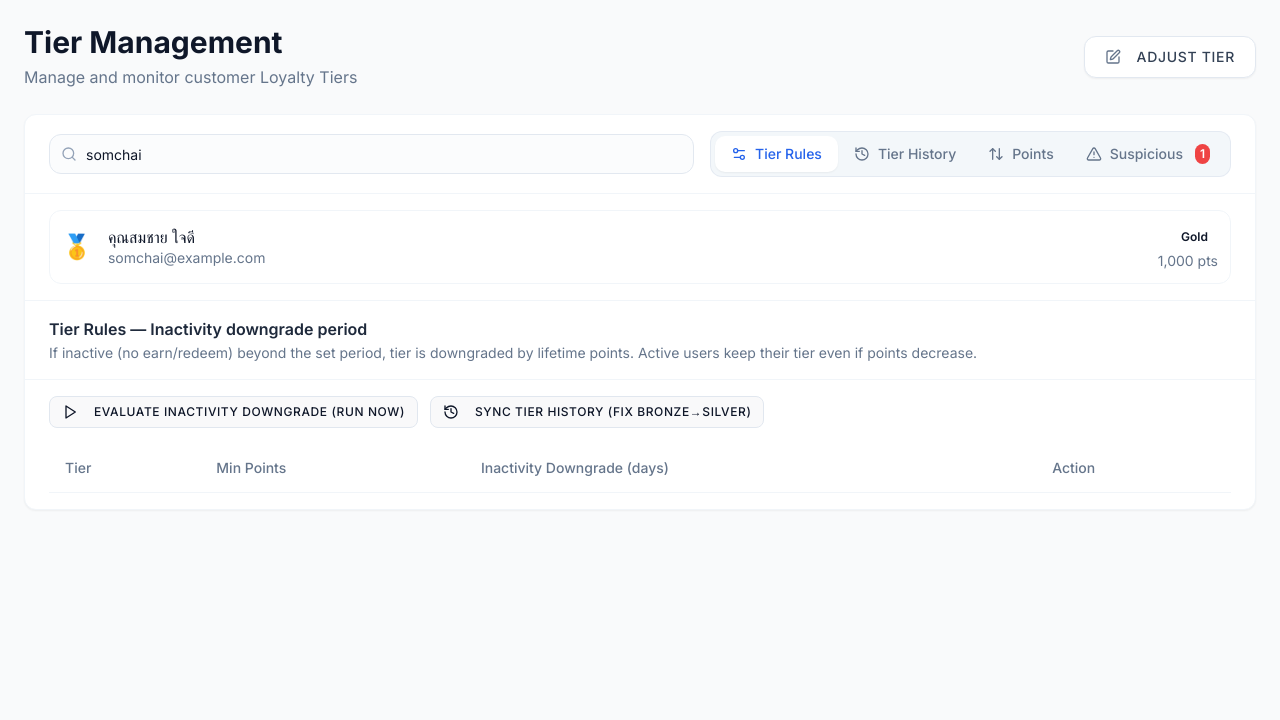
TierManagement › opens and closes manual override dialog
This screenshot has width=1280, height=720.
Step 1. Click the text "คุณสมชาย ใจดี" → (152, 237), box x1=108 y1=227 x2=195 y2=247
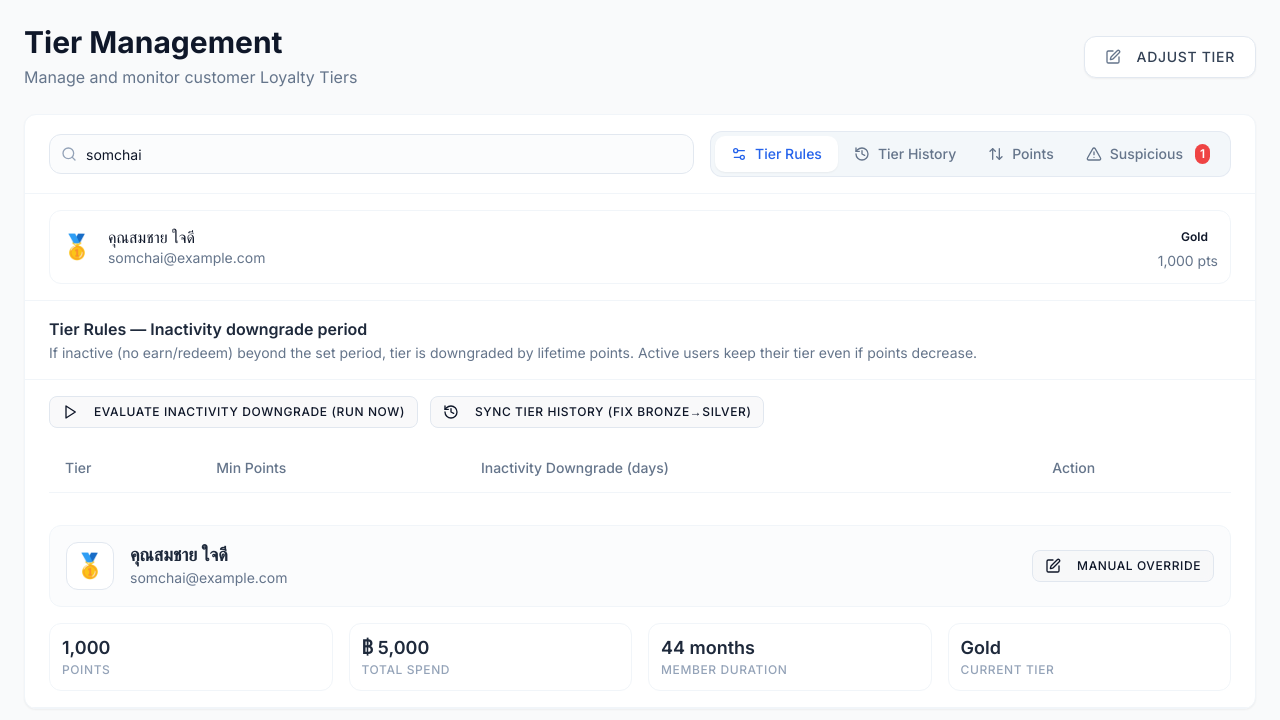
# Open dialog
Step 2. Click the button "Manual Override" → (1123, 566), box x1=1032 y1=550 x2=1214 y2=582
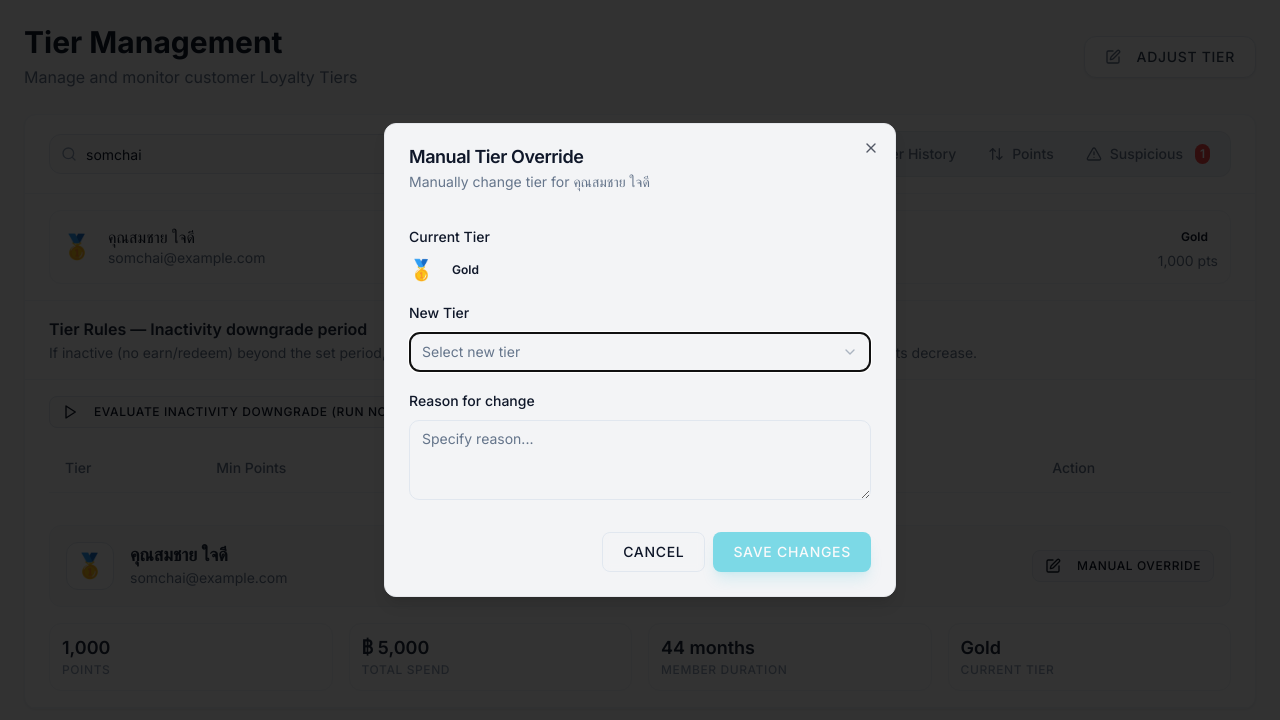
Now the heading "Manual Tier Override" is shown, box x1=409 y1=146 x2=583 y2=167
Now the button "Save Changes" is shown, box x1=713 y1=532 x2=871 y2=572
# Close dialog
Step 3. Click the button "Cancel" → (654, 552), box x1=602 y1=532 x2=705 y2=572
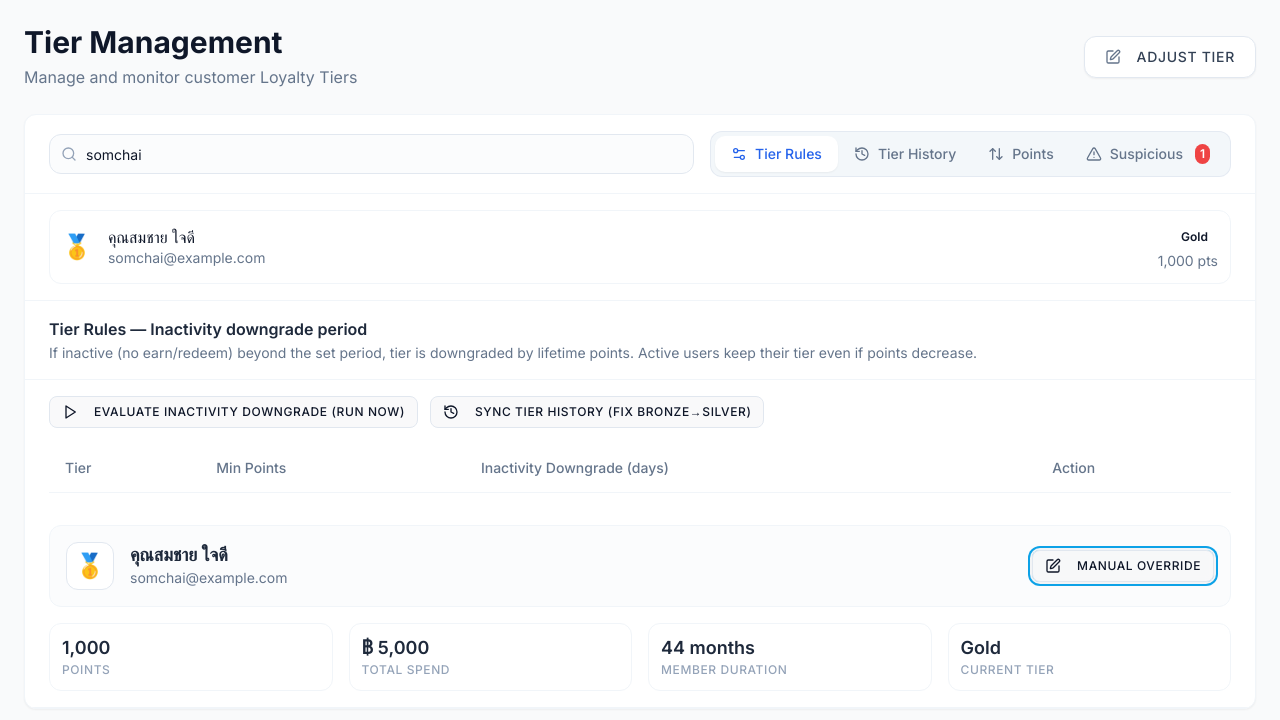
Now the heading "Manual Tier Override" is gone
